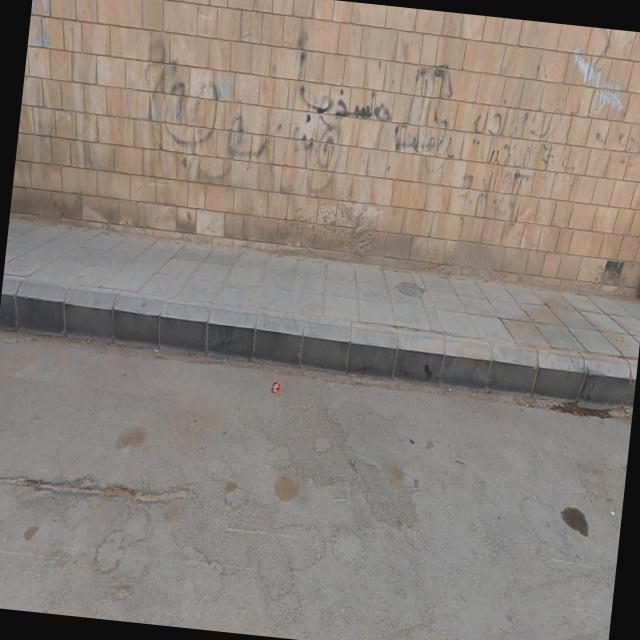Graffiti: (130, 1, 640, 236), (27, 1, 58, 55)
